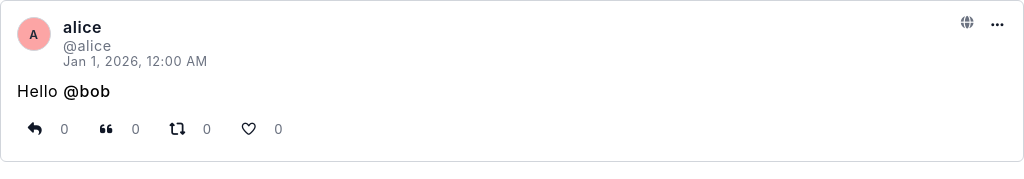
Test: ActivityCard › moves edit, delete and copy URL into the header overflow menu
This screenshot has width=1024, height=179.
Click the button named "Open menu".
click(997, 25)  # box [988,17,1007,33]
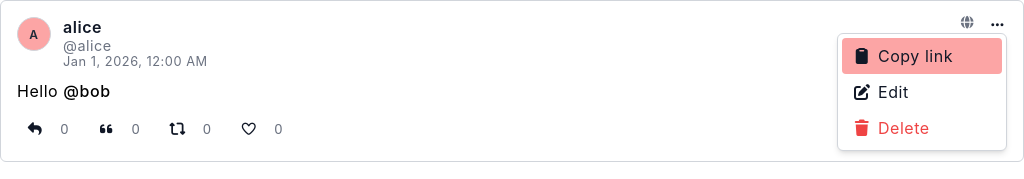
Check: the text "Copy link" is shown, box [878,46,953,66]
Check: the text "Edit" is shown, box [878,82,909,102]
Check: the text "Delete" is shown, box [878,118,930,138]
